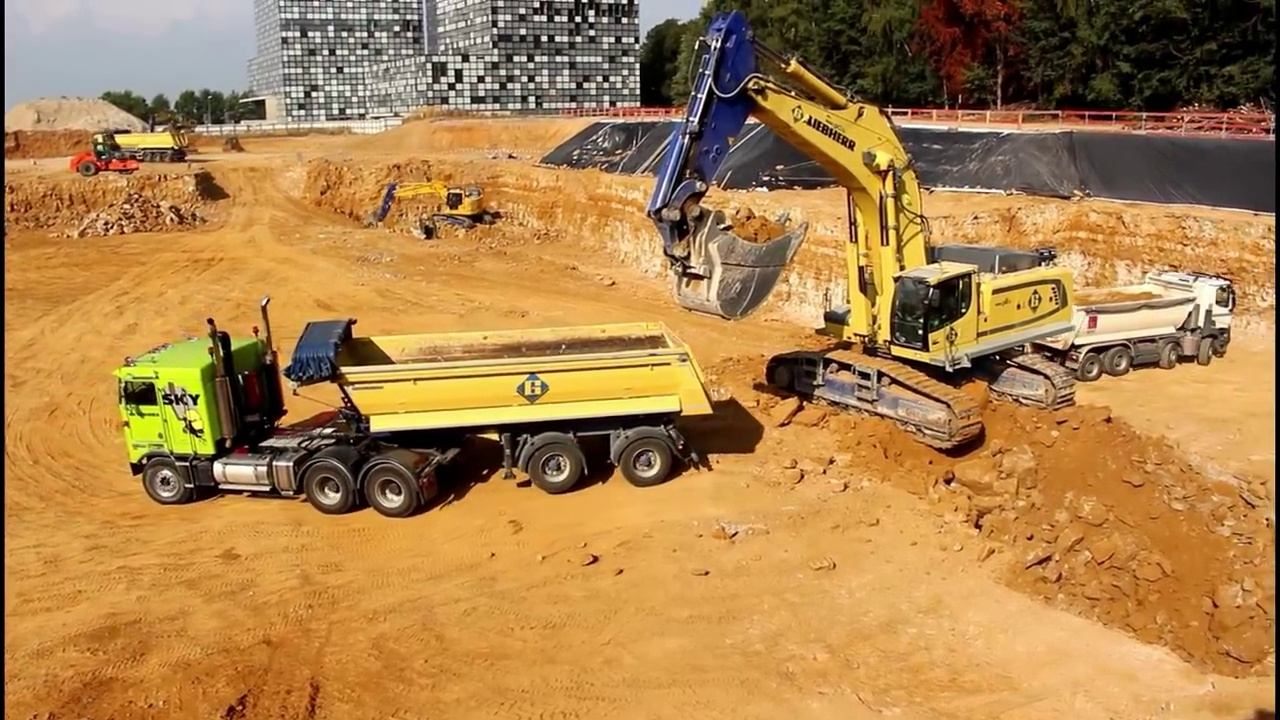compactor: (70, 138, 140, 182)
excavator: (645, 14, 1078, 461), (363, 172, 502, 247), (139, 112, 195, 138)
truck: (106, 292, 722, 524), (1018, 267, 1243, 386), (94, 124, 187, 167)
